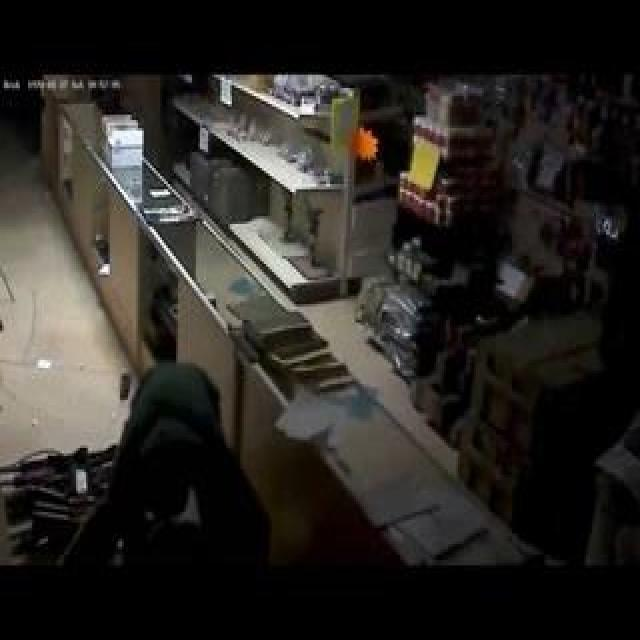thief: (122, 366, 235, 518)
